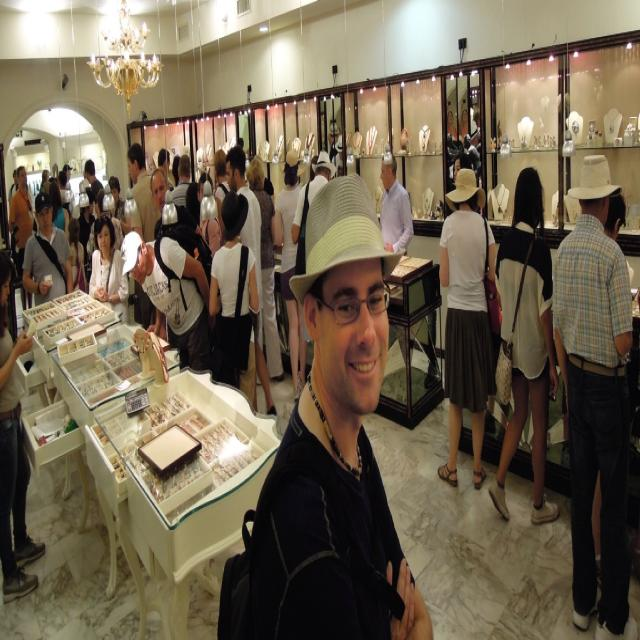body: (212, 168, 436, 639), (552, 150, 640, 639), (486, 162, 561, 529), (436, 164, 502, 493), (0, 247, 48, 606), (224, 143, 280, 418), (120, 228, 216, 373), (208, 189, 260, 392), (245, 152, 285, 386), (274, 147, 309, 405), (21, 190, 75, 308), (148, 166, 214, 258), (88, 213, 131, 329), (290, 148, 338, 245), (7, 165, 35, 312), (379, 149, 414, 258), (126, 141, 162, 243), (86, 185, 124, 258), (603, 182, 634, 270), (212, 147, 232, 248), (77, 185, 97, 280), (36, 161, 74, 209), (67, 216, 88, 292), (47, 178, 70, 244), (170, 153, 192, 208), (156, 144, 180, 188), (448, 148, 475, 185), (84, 158, 105, 205), (108, 174, 125, 222), (196, 169, 214, 205), (263, 170, 278, 210), (8, 163, 18, 218), (310, 148, 318, 180)
